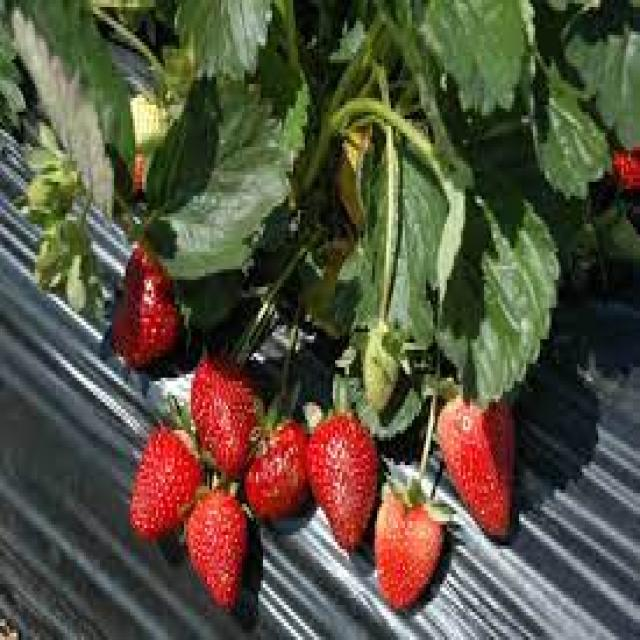strawberry: (440, 388, 528, 546), (298, 414, 380, 548), (376, 478, 445, 618), (124, 405, 200, 530), (184, 475, 250, 608), (180, 366, 254, 464), (242, 434, 309, 528)
